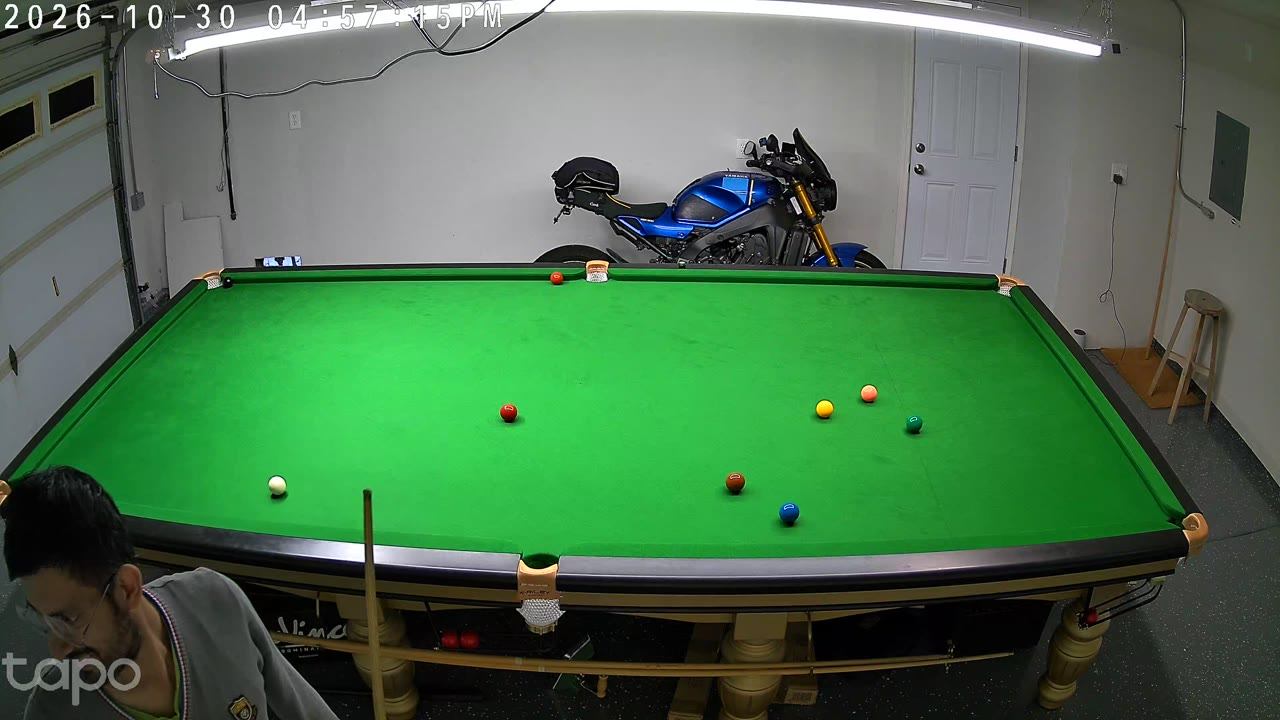blue: (779, 499, 800, 529)
brown: (725, 471, 745, 497)
green: (906, 414, 922, 436)
pink: (860, 384, 876, 404)
red: (500, 401, 517, 424), (551, 271, 562, 287)
white: (267, 473, 288, 502)
yellow: (817, 399, 833, 421)
